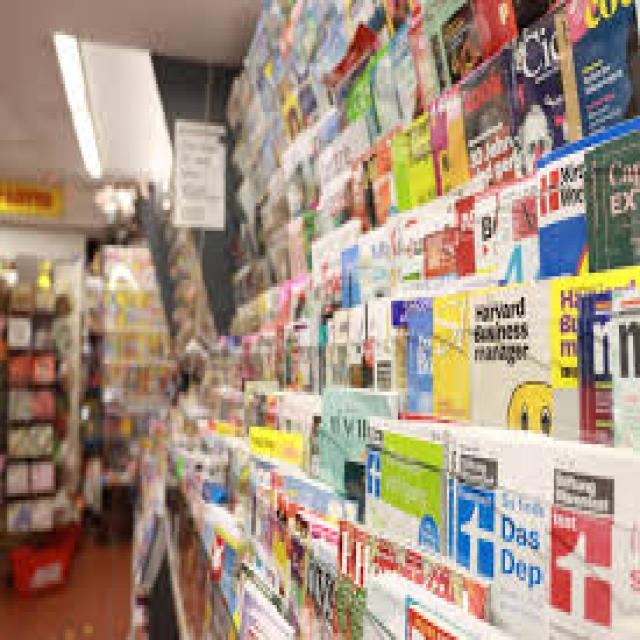paper: (102, 0, 638, 637)
